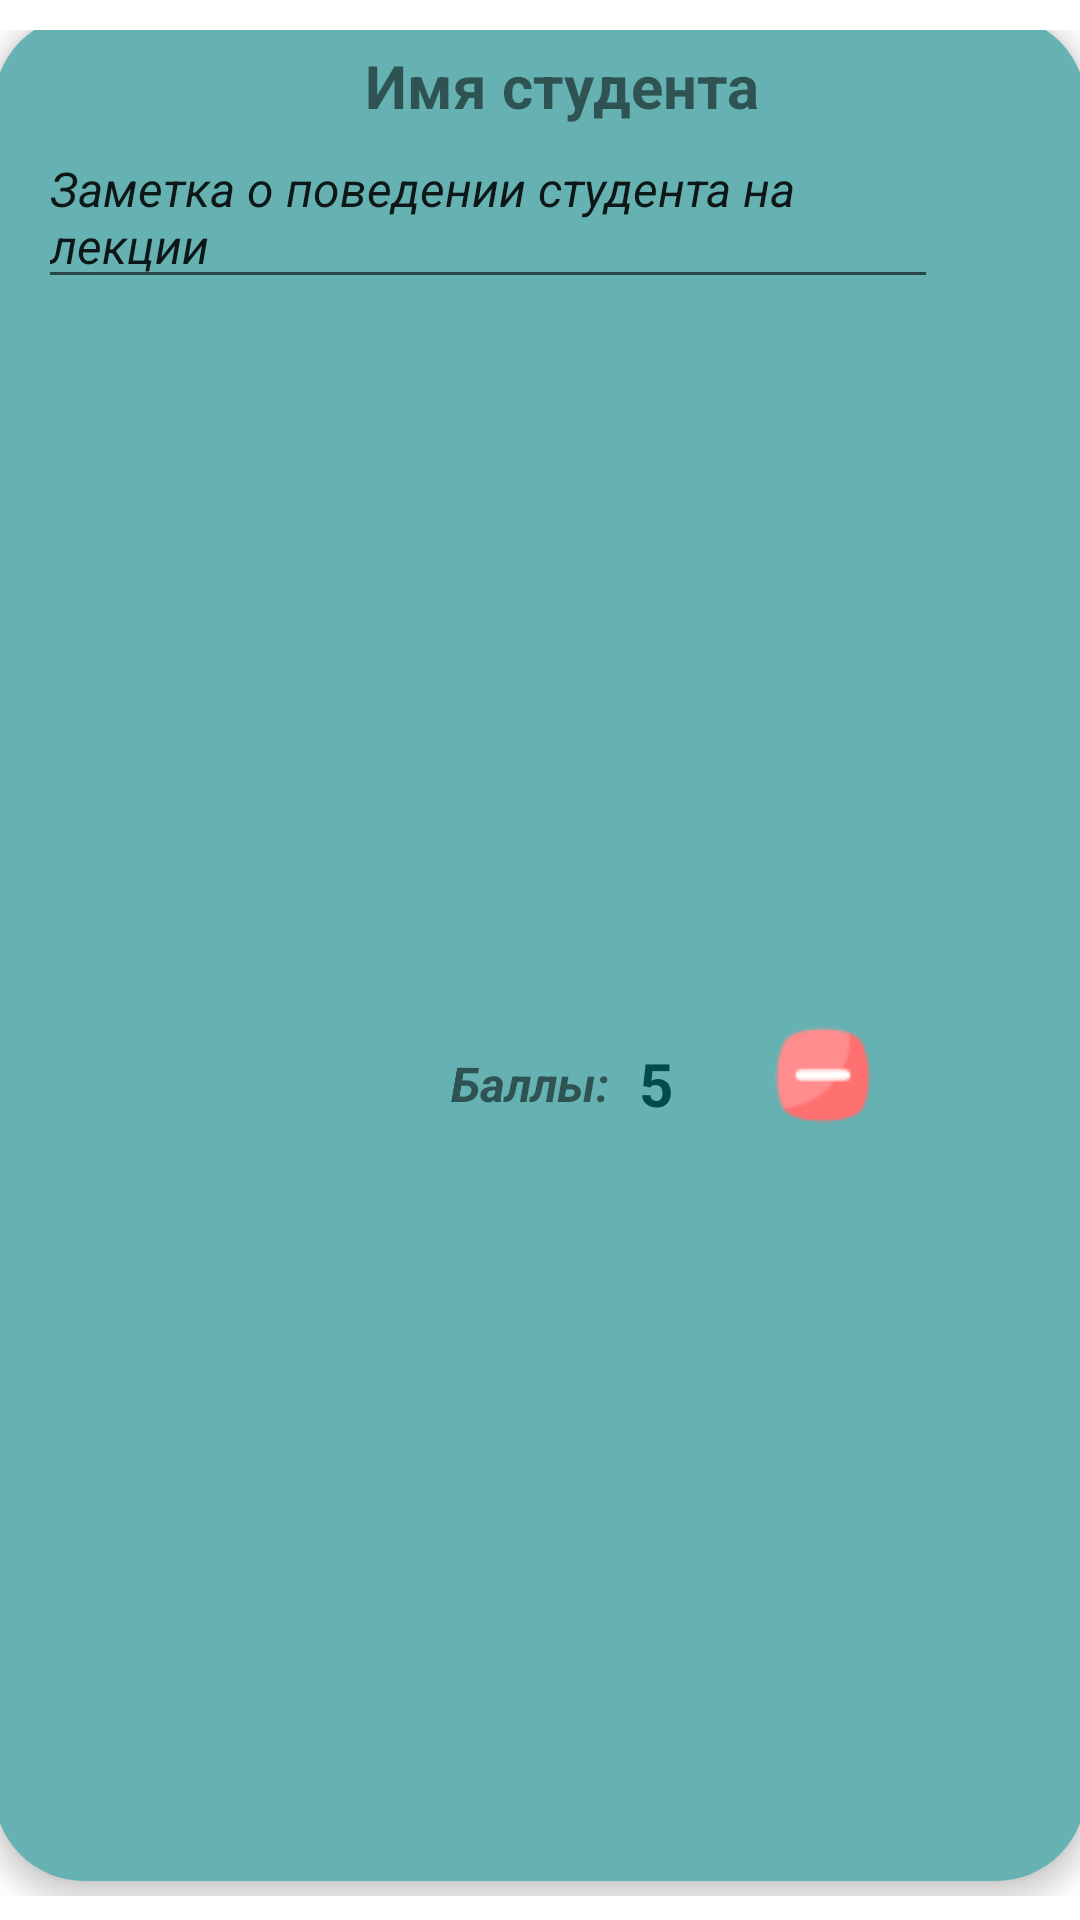

Locate icon controls on the screen. Image size 1080w x 1920h, boxes as (x1, y1, x2, y2).
minus: (775, 1027, 871, 1123)
